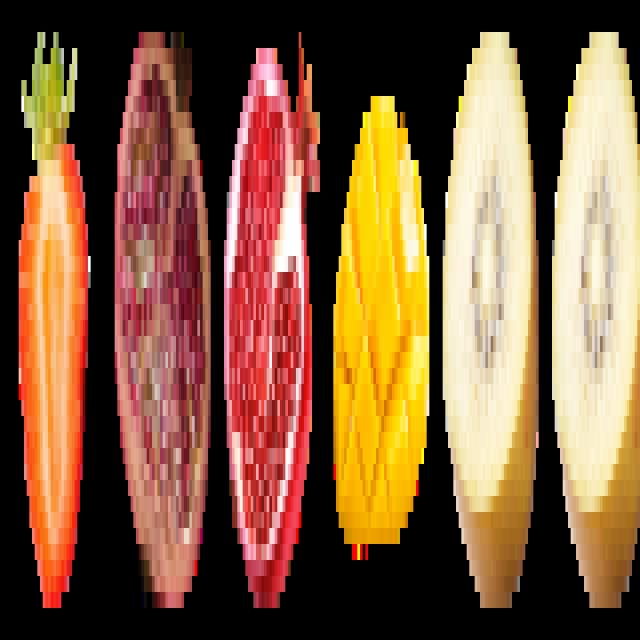kiwifruit: (439, 29, 544, 622)
mango: (331, 73, 431, 563)
pomegranate: (113, 19, 213, 618), (223, 32, 320, 624)
strawberry: (15, 22, 90, 622)
